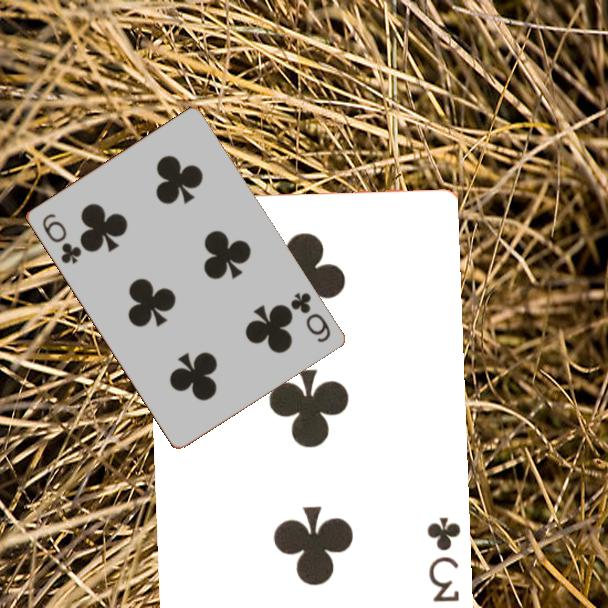c03: (424, 514, 464, 605)
c06: (286, 289, 333, 345), (38, 210, 84, 267)
